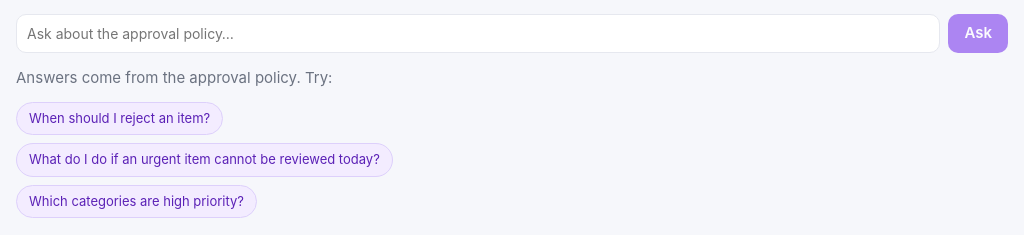
Test case: HelpView › never shows a malformed event
Type "When should I reject?" into the field named "question" at (478, 34), box [16,14,940,53]
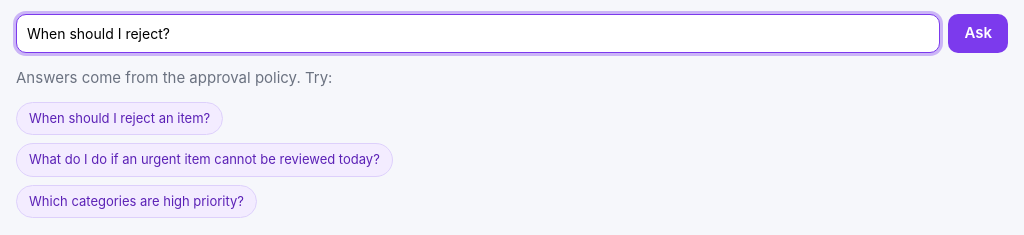
Click the button "Ask" at (978, 34), box [948,14,1008,53]
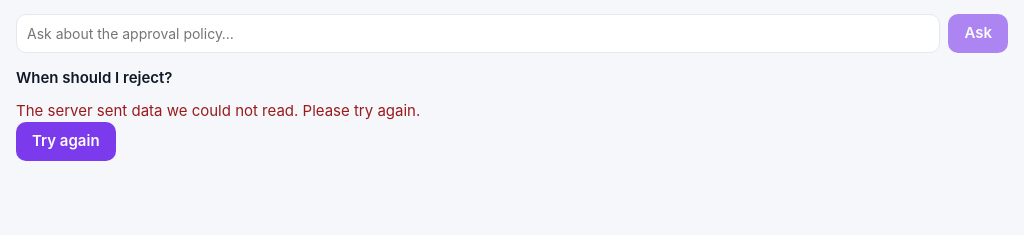
expect the message shows "could not read": met, box [16,100,420,120]
